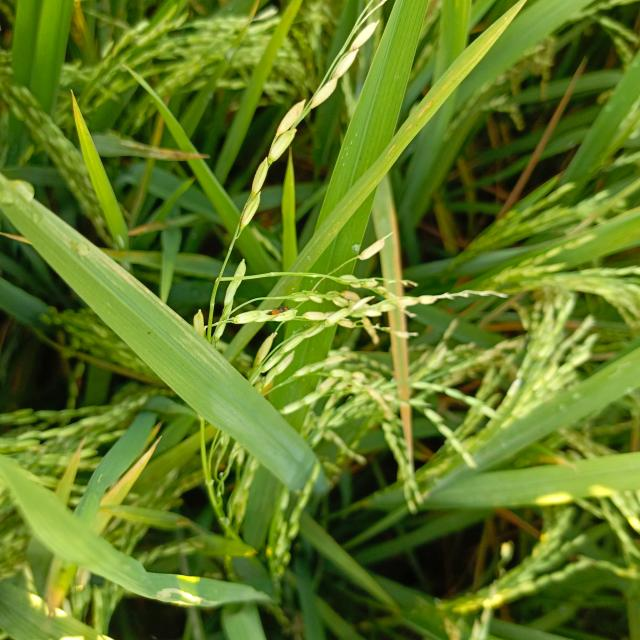Brown spot: (138, 143, 212, 170)
